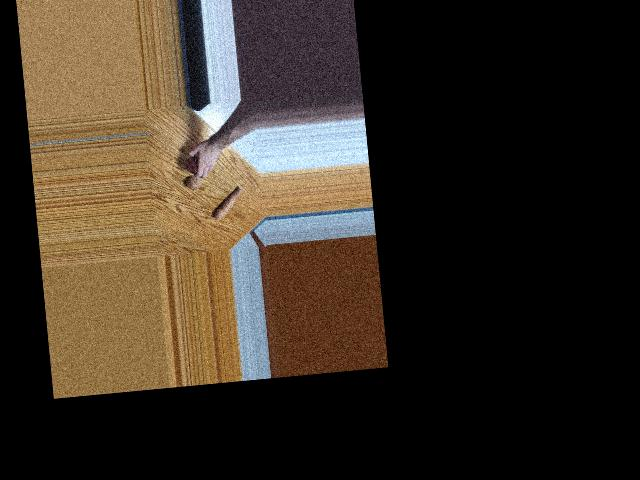onion: (186, 158, 203, 175)
